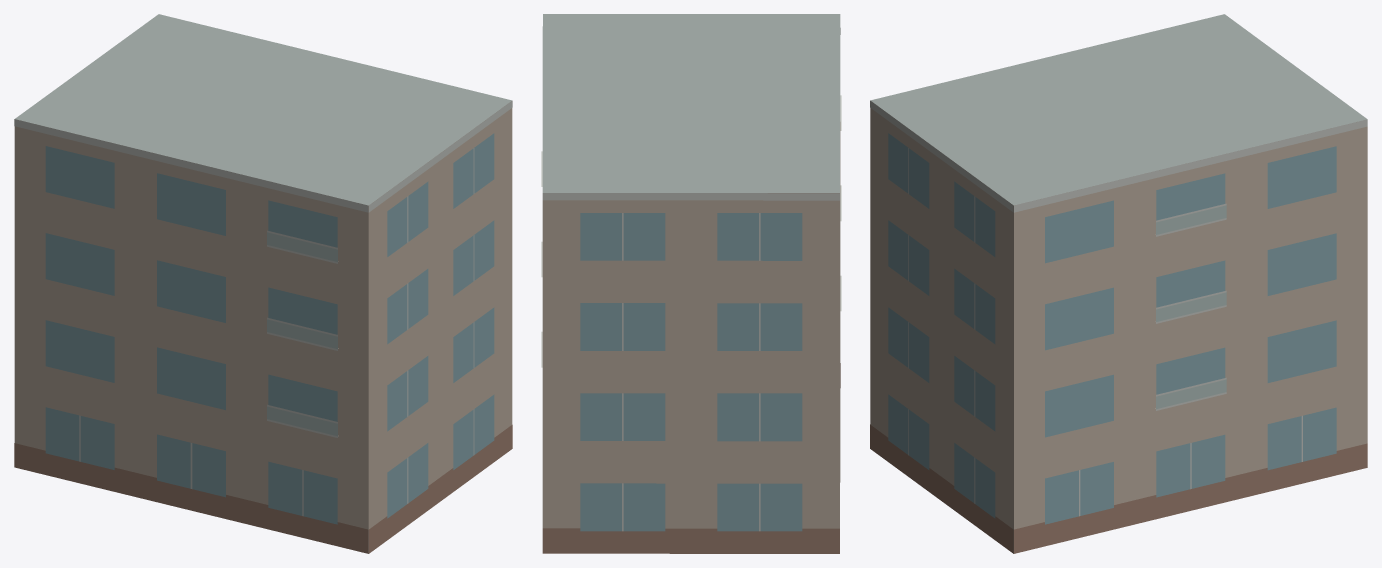
Rendered from survey-upis-32695327.glb.
3 renders of one model, left to right at view 1: azimuth 30°, elevation 25°; view 2: azimuth 150°, elevation 25°; view 3: azimuth 270°, elevation 25°, orthographic. The views are drawn at different scales.
Visible parts, largest first — view 1: survey-upis-32695327.tmp; view 2: survey-upis-32695327.tmp; view 3: survey-upis-32695327.tmp.
Boxes of the visible parts, bbox=[...] form: survey-upis-32695327.tmp: bbox=[14, 14, 512, 553]; survey-upis-32695327.tmp: bbox=[541, 14, 841, 553]; survey-upis-32695327.tmp: bbox=[870, 14, 1367, 553].
Size of the model in its own units: 13.92 by 11.8 by 15.28.
